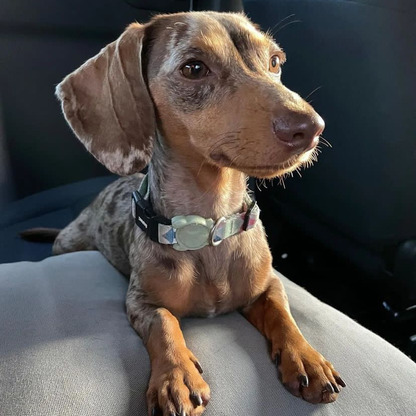dachshund: (54, 9, 363, 398)
